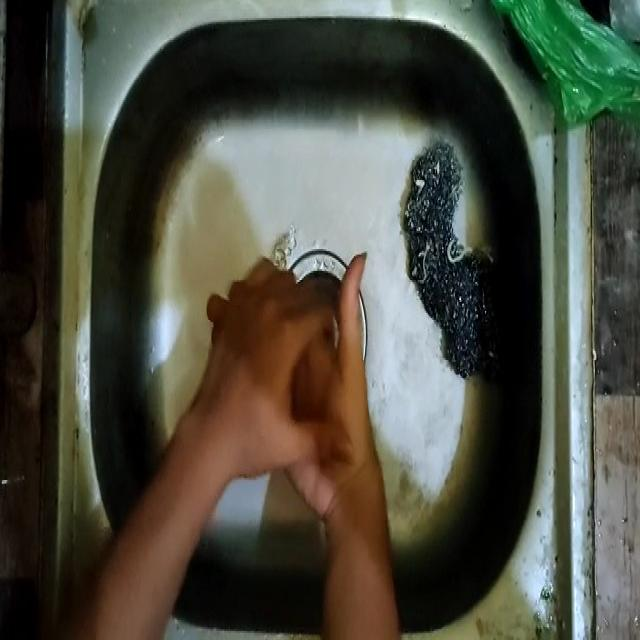step_5: (200, 238, 382, 505)
